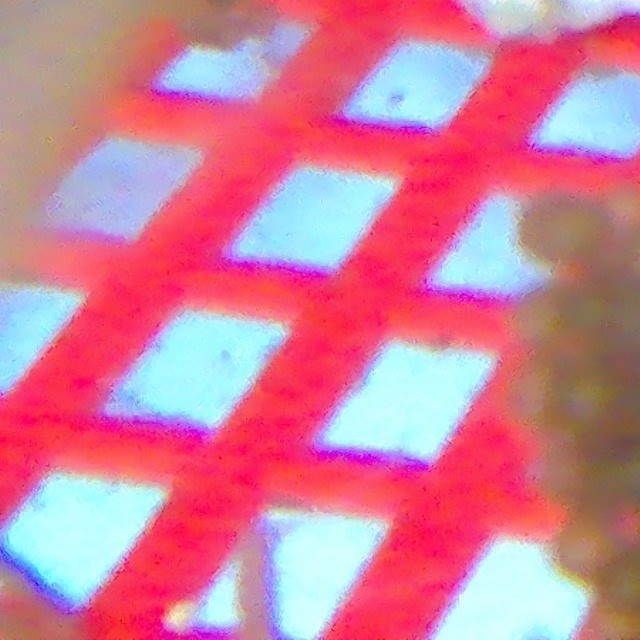SeaGrape: (547, 369, 613, 435), (554, 292, 618, 353), (604, 544, 640, 607)
